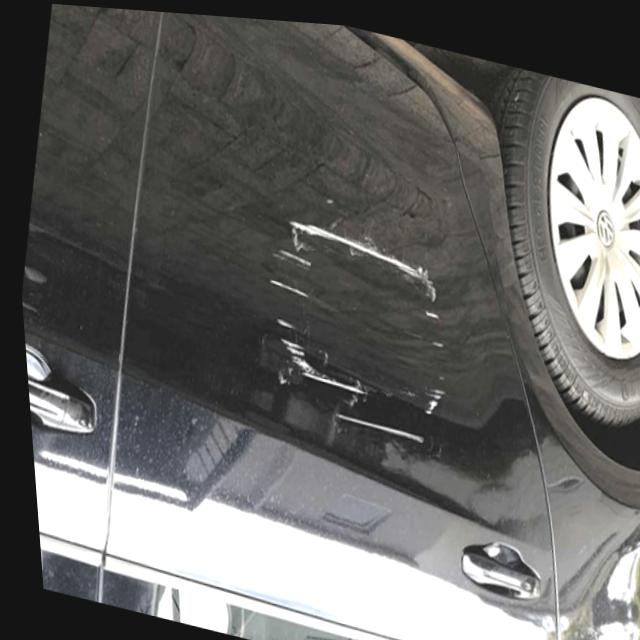Scratch: (286, 217, 444, 302), (278, 338, 368, 402), (330, 409, 430, 446), (415, 376, 451, 417), (264, 276, 310, 298), (268, 246, 312, 266), (414, 308, 443, 322), (273, 317, 296, 332), (426, 339, 449, 349), (276, 371, 289, 388)
